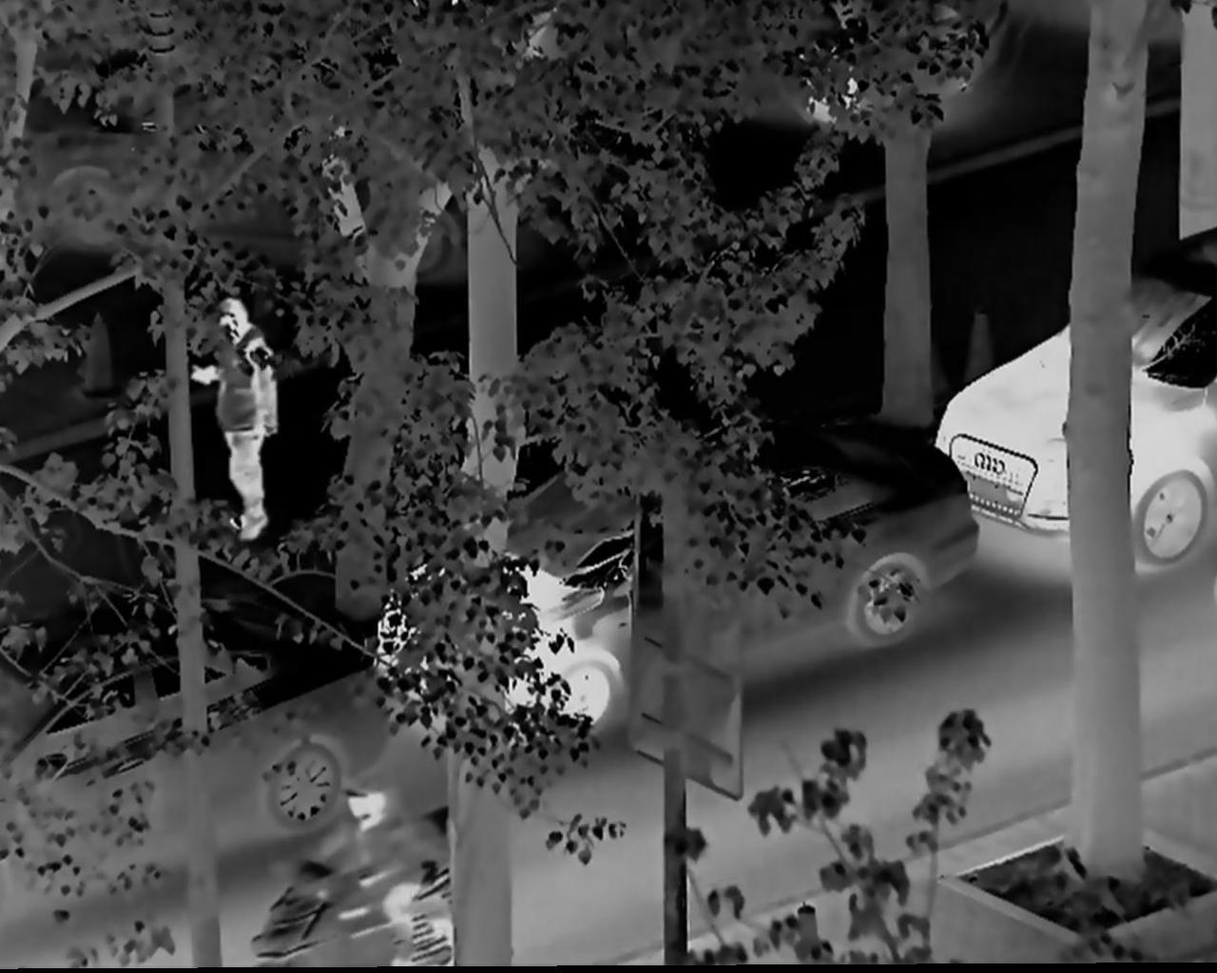person: (276, 770, 440, 970), (184, 290, 303, 558)
